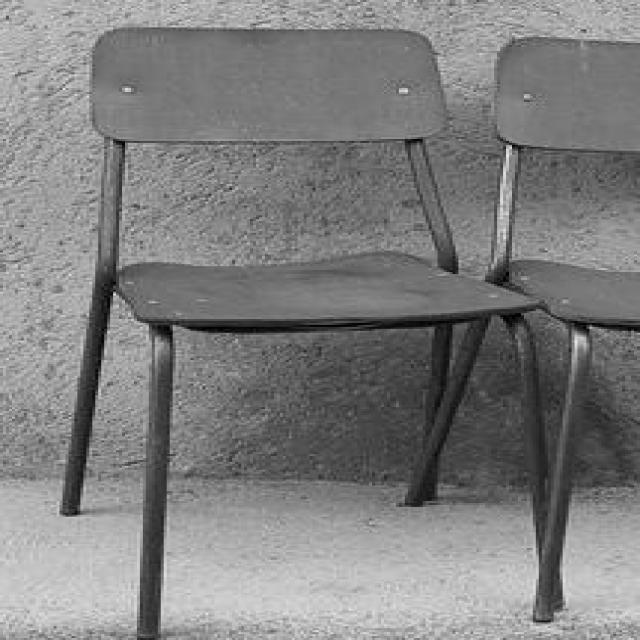chair: (56, 15, 564, 634), (408, 24, 637, 606)
